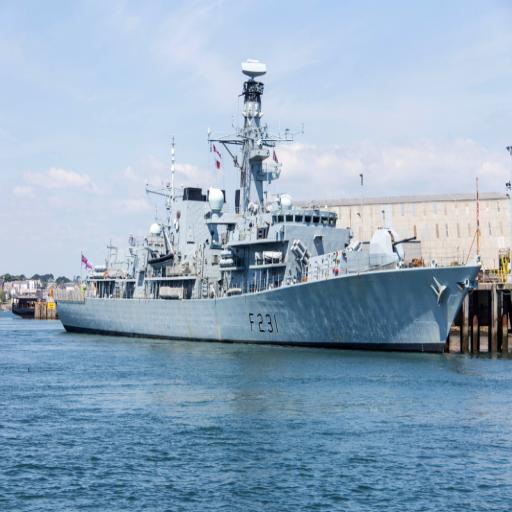Fragata: (50, 44, 488, 360)
